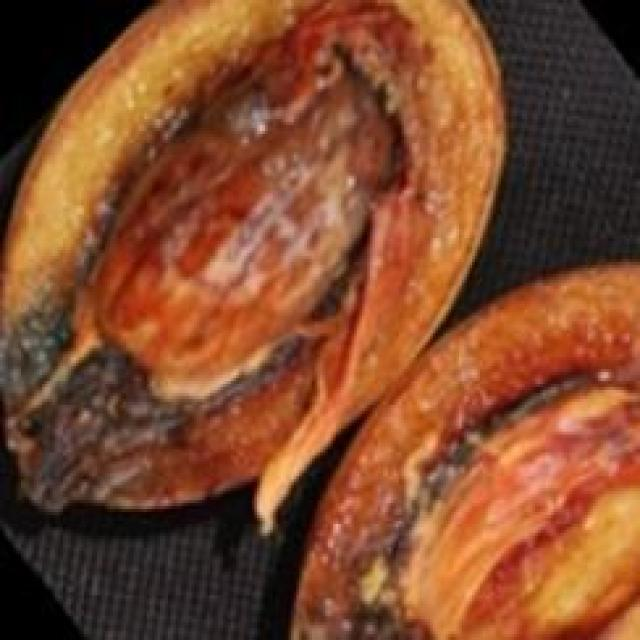damaged: (0, 0, 511, 637), (283, 262, 637, 637)
